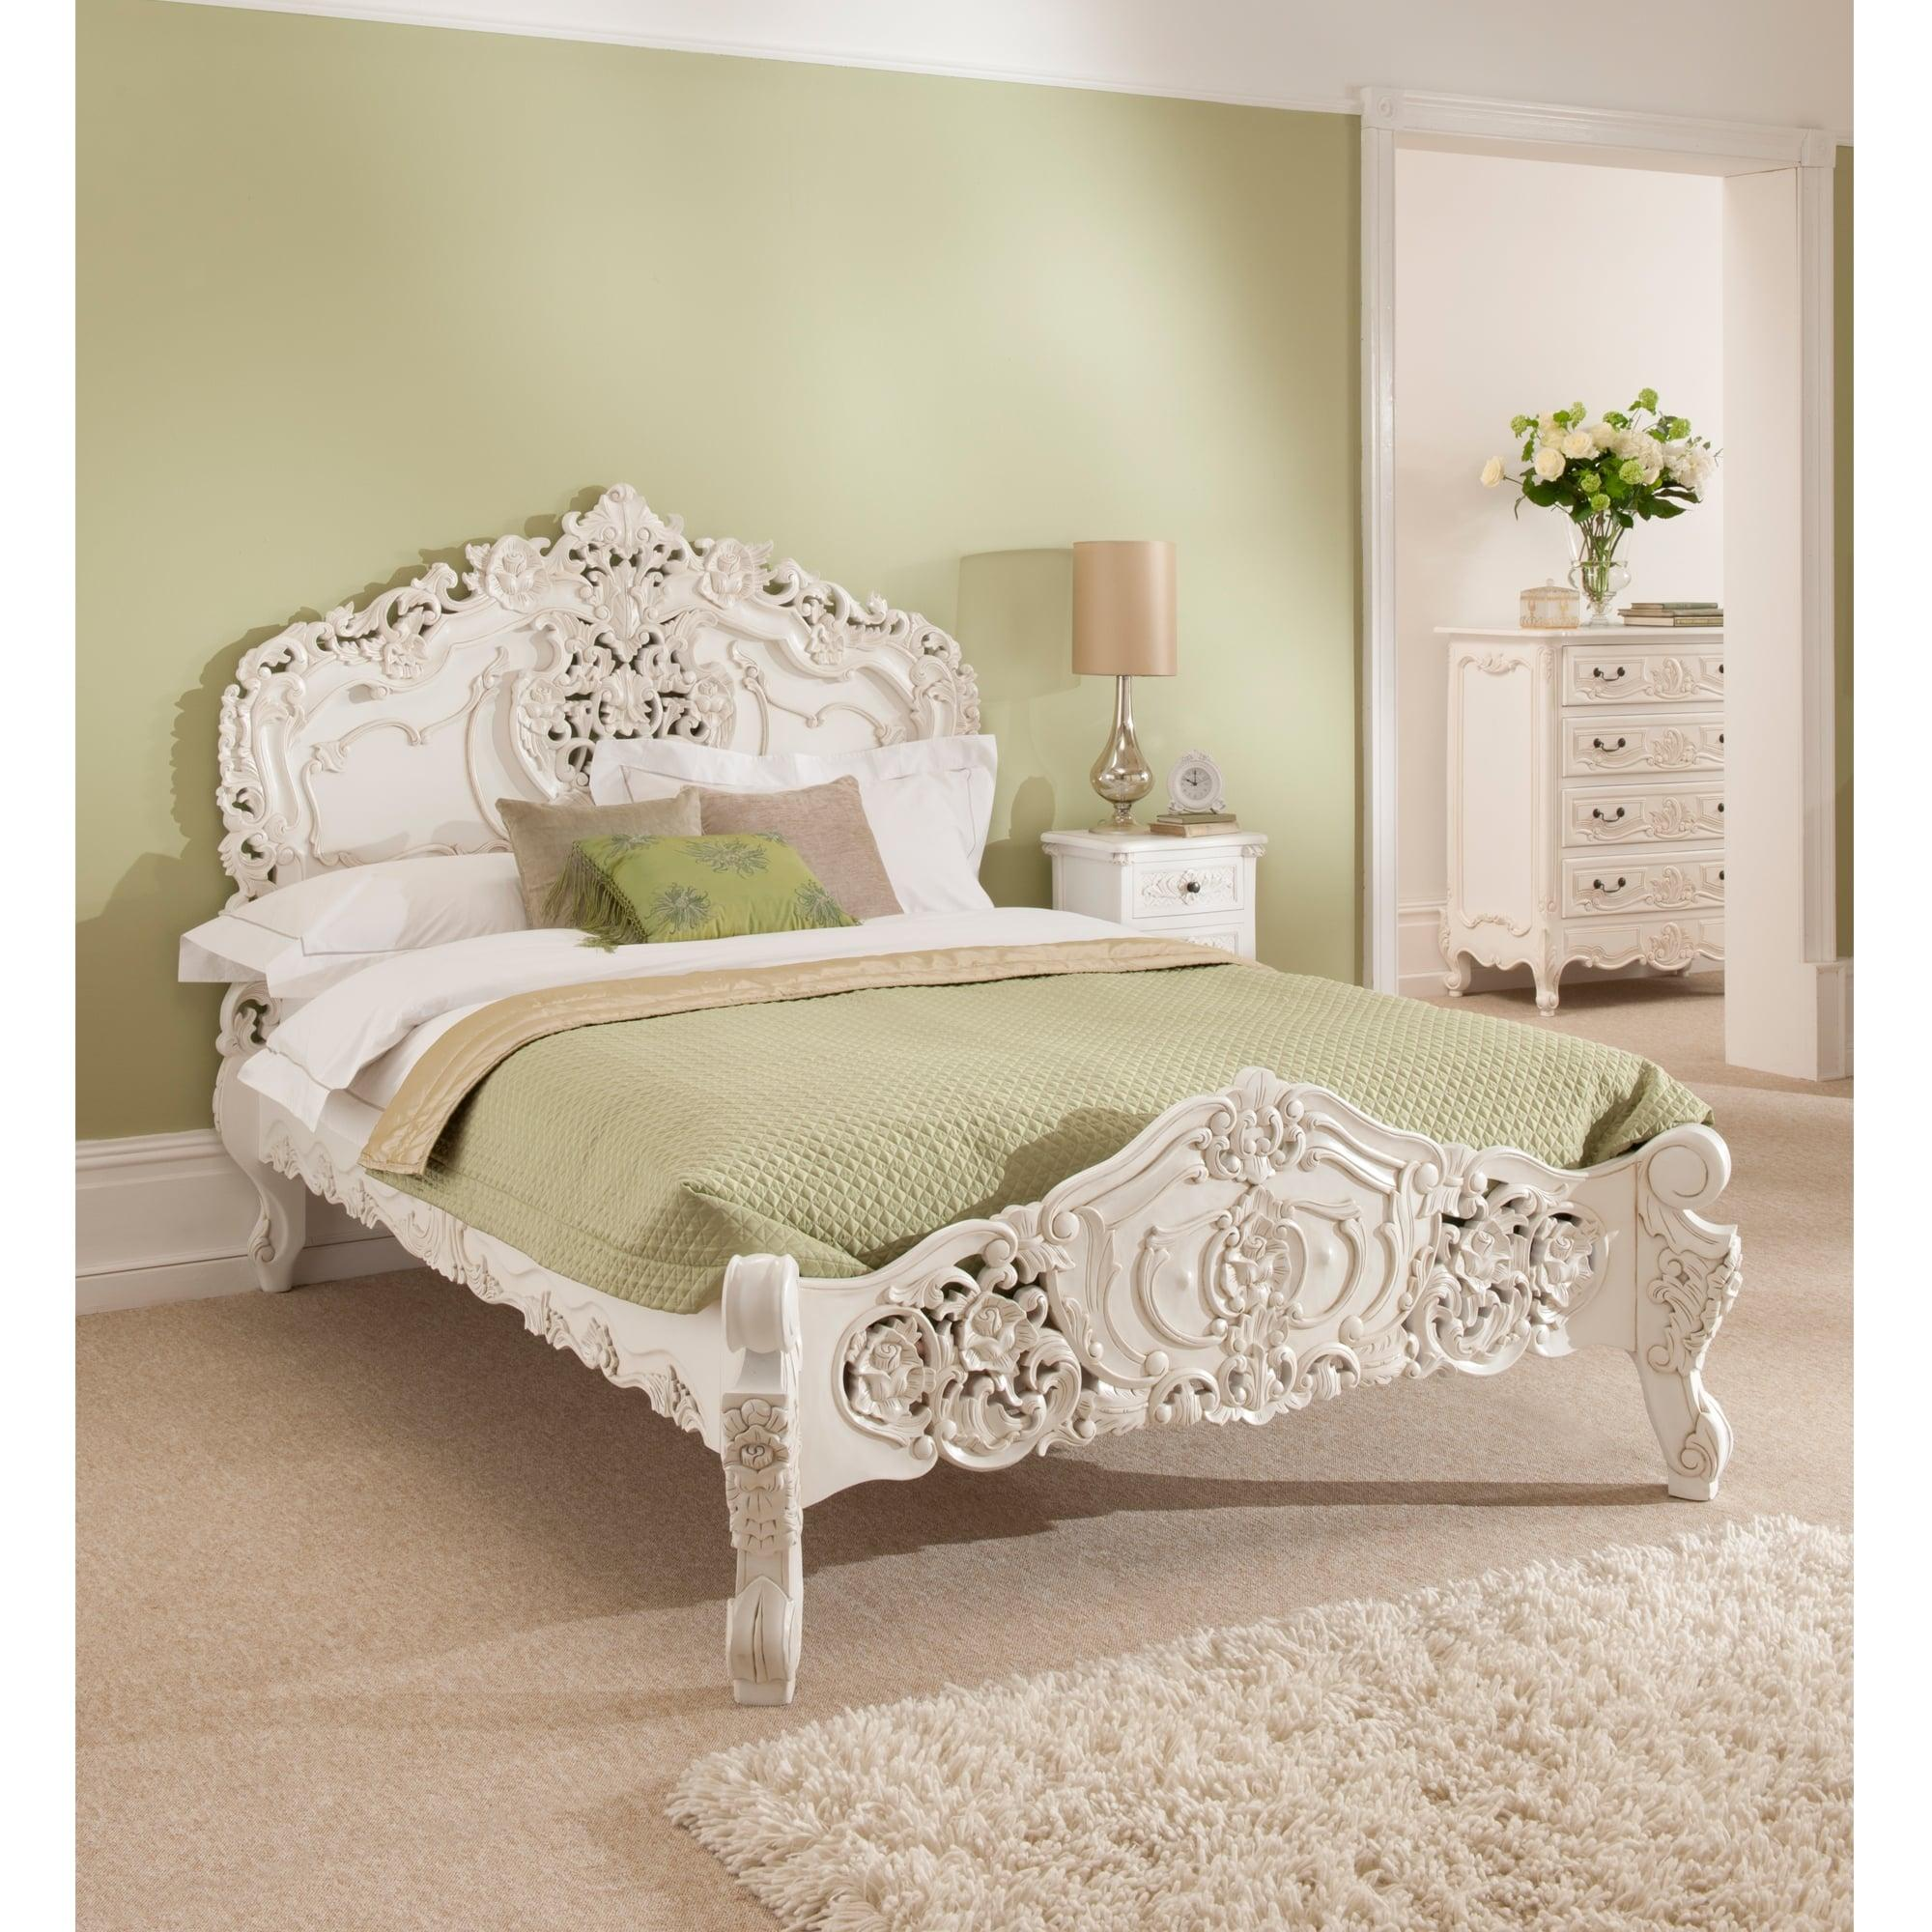bed: (271, 478, 1444, 1566)
